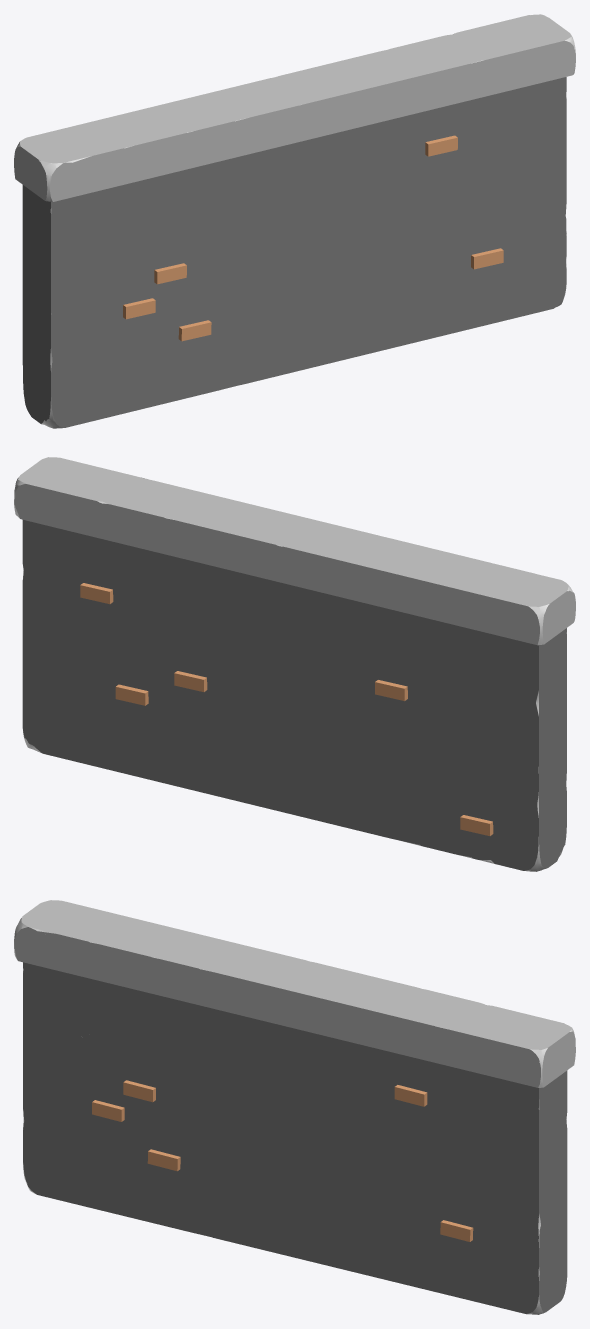
Rendered from wall_intact_1.fbx.
The picture shows the model from 3 angles, top to bottom: view 1: azimuth 30°, elevation 25°; view 2: azimuth 150°, elevation 25°; view 3: azimuth 330°, elevation 25°; orthographic projection.
Parts seen in each view (by area): view 1: Cube.005_dmg; view 2: Cube.005_dmg, Cube.024, Cube.027, Cube.025, Cube.026; view 3: Cube.005_dmg, Cube.022.
Boxes of the visible parts, x1,y1,x2,y2 form: Cube.005_dmg: [14, 14, 575, 428]; Cube.005_dmg: [14, 457, 575, 871]; Cube.024: [115, 684, 148, 705]; Cube.027: [460, 815, 493, 835]; Cube.025: [174, 671, 207, 691]; Cube.026: [80, 583, 113, 604]; Cube.005_dmg: [14, 900, 575, 1314]; Cube.022: [394, 1085, 427, 1106].
Bounding box in the file's own units: 288 × 140 × 33.35.
